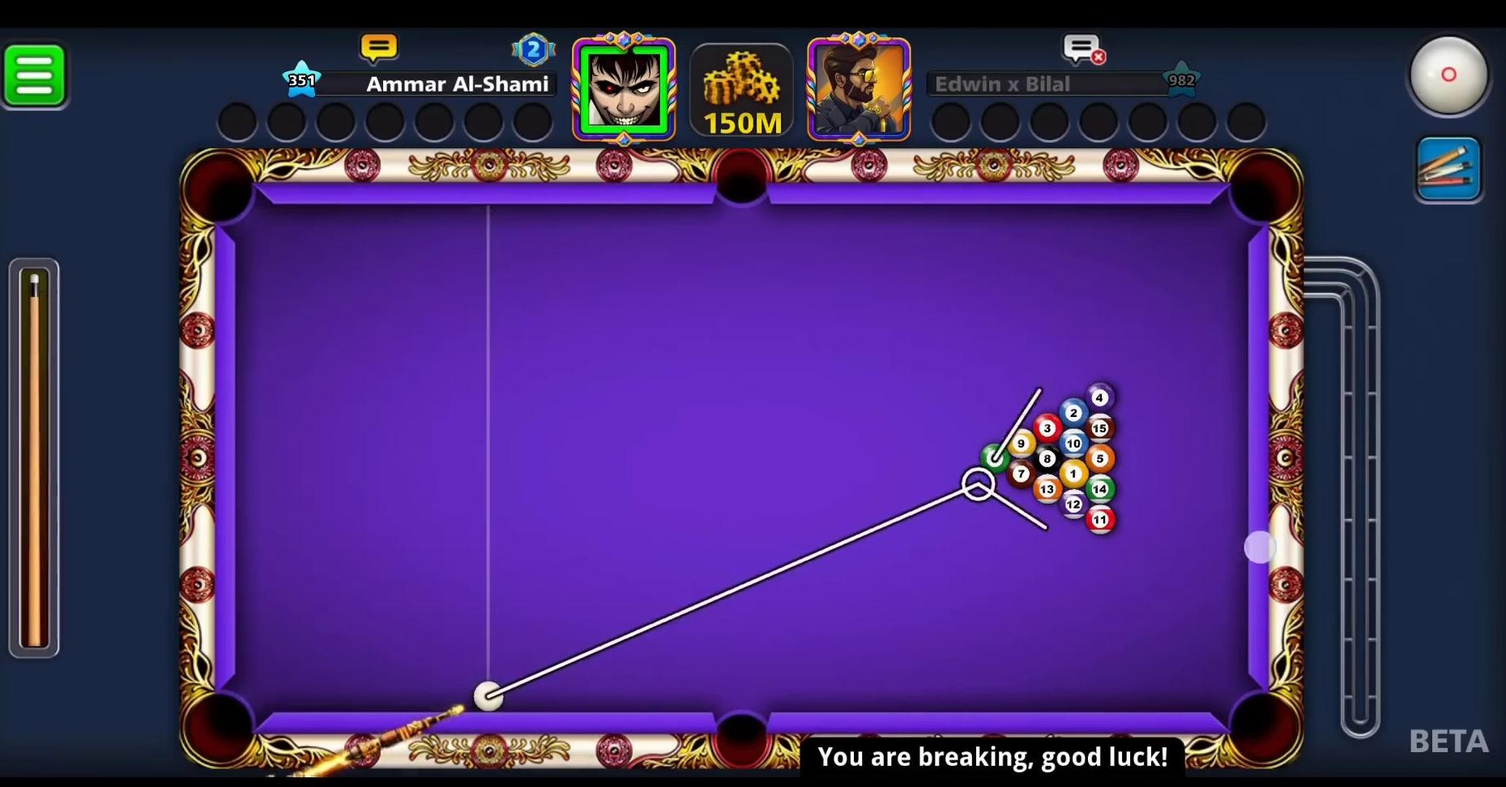Ball: (1078, 368, 1118, 416), (1055, 455, 1093, 494), (1055, 485, 1092, 521), (1084, 504, 1120, 537), (1055, 392, 1087, 428), (1084, 441, 1118, 474), (1030, 472, 1064, 504), (1007, 423, 1035, 461), (1005, 456, 1032, 495), (1084, 411, 1116, 443), (1085, 473, 1118, 504), (1032, 411, 1062, 445), (1058, 427, 1089, 459), (1032, 443, 1063, 474), (980, 442, 1009, 470)
Force: (1, 258, 65, 658)
Guideline: (483, 376, 1055, 702)
Hole: (173, 677, 270, 775), (1215, 678, 1308, 776), (1215, 141, 1308, 235), (173, 143, 267, 232), (695, 687, 787, 772), (699, 141, 781, 221)
Play_Area: (234, 202, 1255, 714)
Spin: (1401, 28, 1504, 128)
White: (467, 677, 511, 714)
